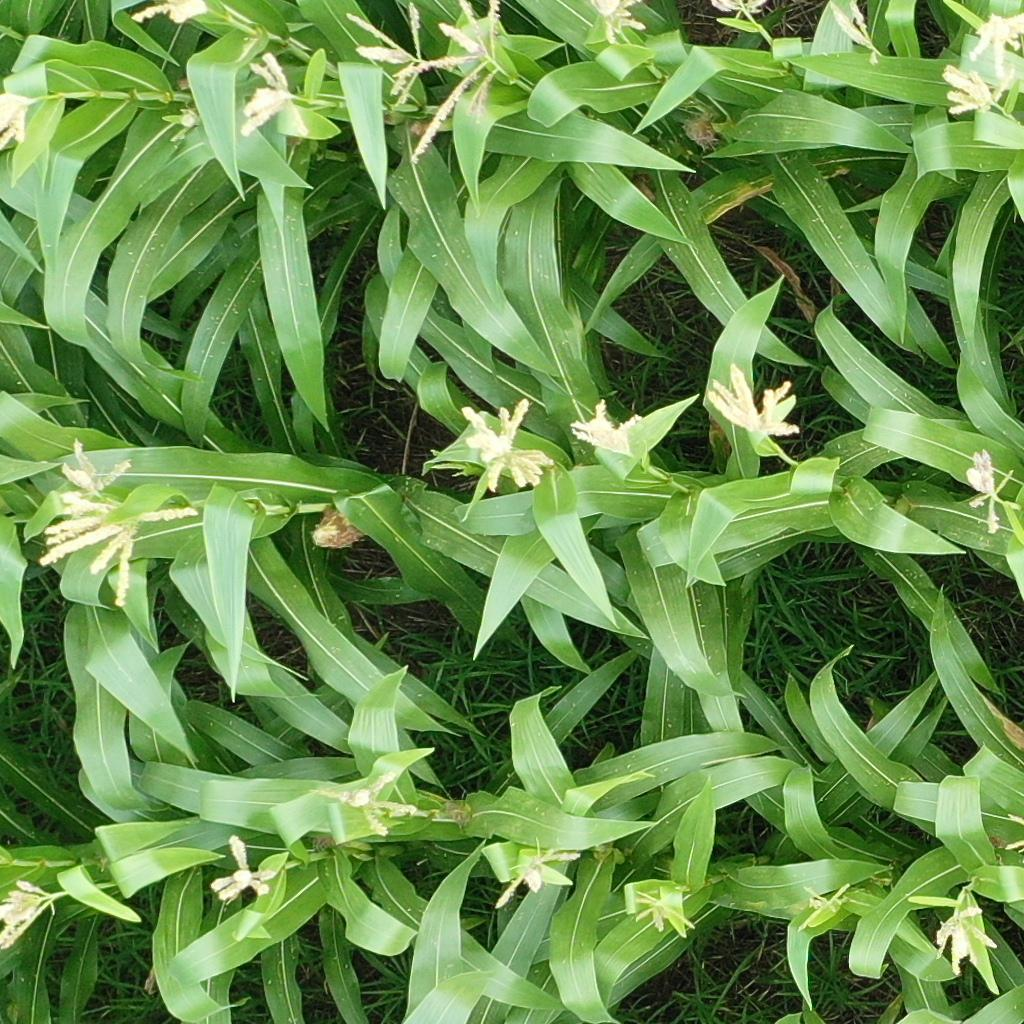Tassel: (30, 498, 202, 611), (396, 1, 509, 167), (344, 1, 477, 105), (455, 399, 557, 499), (702, 364, 800, 452), (491, 843, 583, 907), (329, 769, 416, 835), (959, 445, 1020, 534), (208, 835, 279, 910), (569, 397, 645, 466), (238, 52, 301, 134), (932, 903, 999, 978), (1, 879, 71, 950), (60, 439, 134, 502), (938, 61, 1017, 120), (970, 13, 1024, 77), (626, 887, 696, 936), (830, 1, 885, 60), (795, 880, 853, 933), (588, 1, 647, 45), (128, 1, 213, 31), (1, 91, 37, 154), (167, 108, 199, 144), (1003, 811, 1024, 860), (714, 1, 769, 18)
